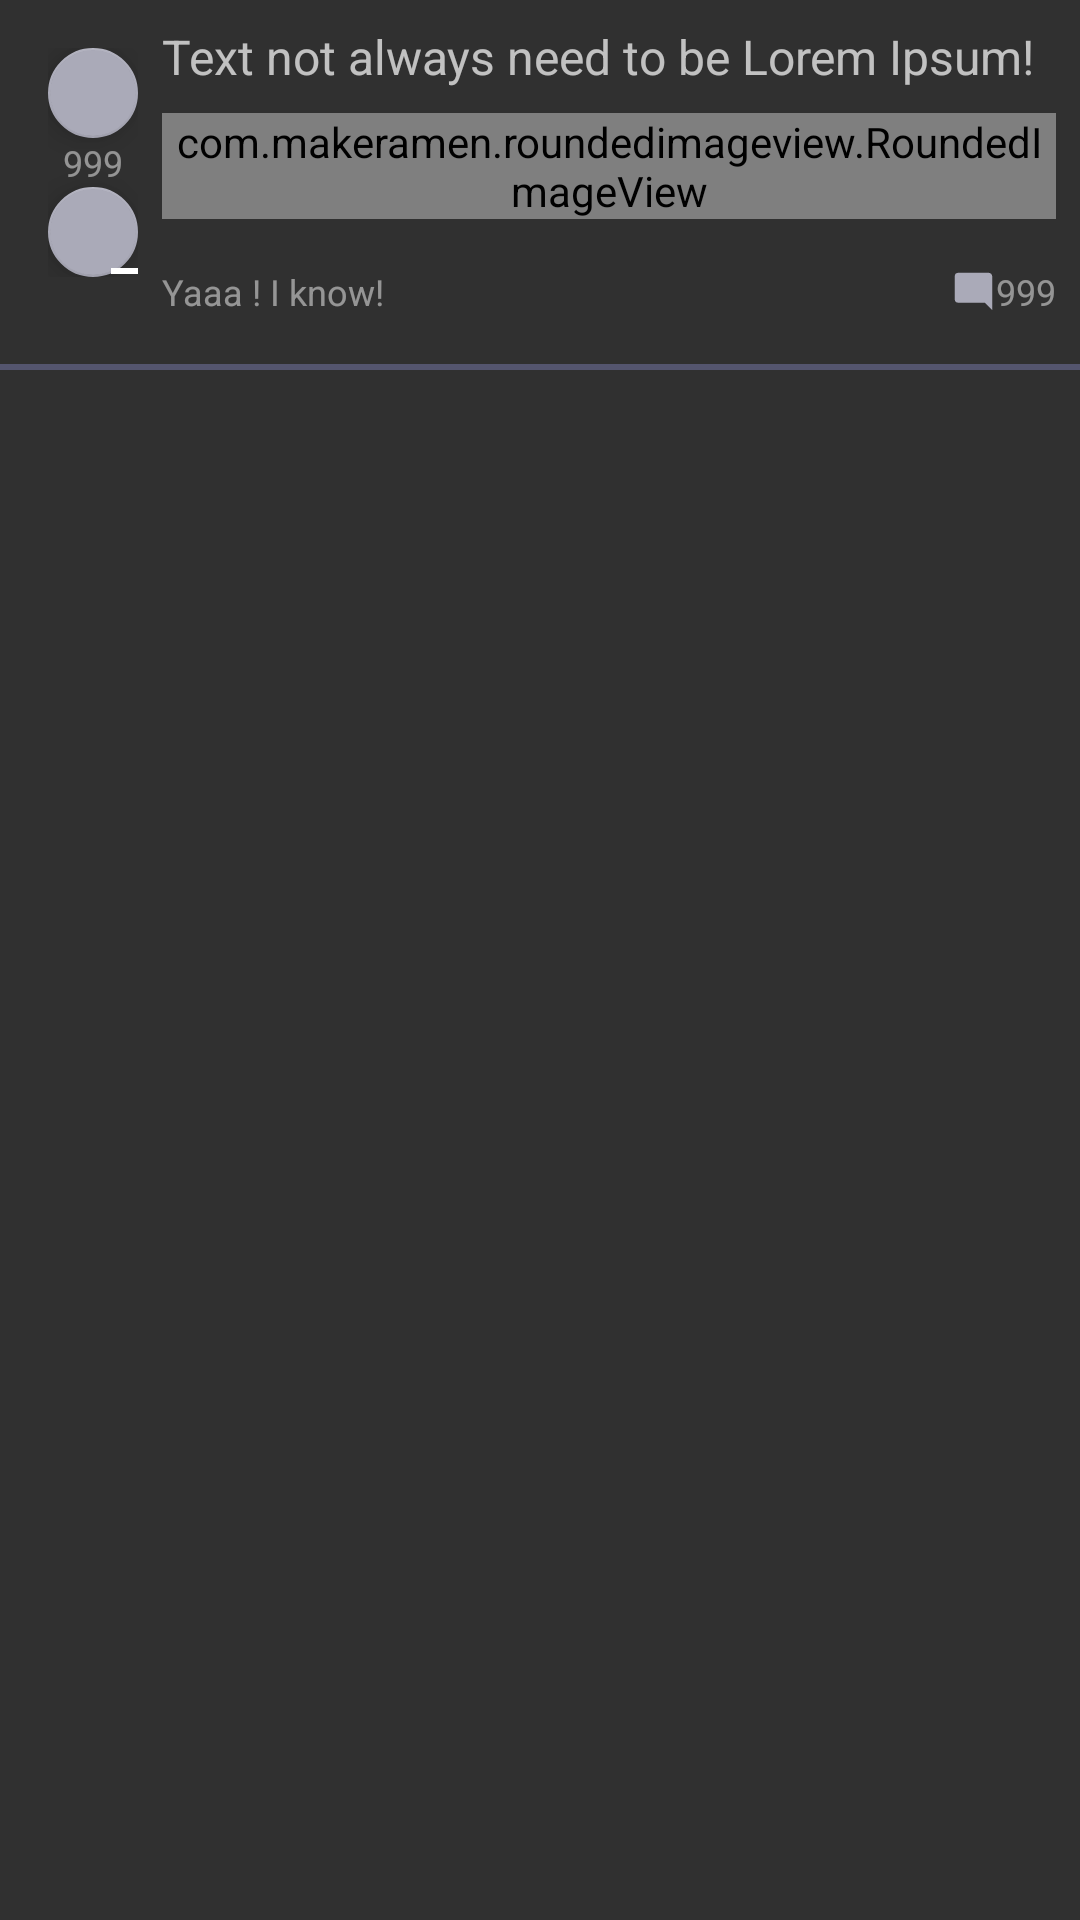

Screen size 1080x1920. Icon name, then its box in pixels as region(x1, y1, x2, y2):
Comment: region(954, 272, 993, 310)
